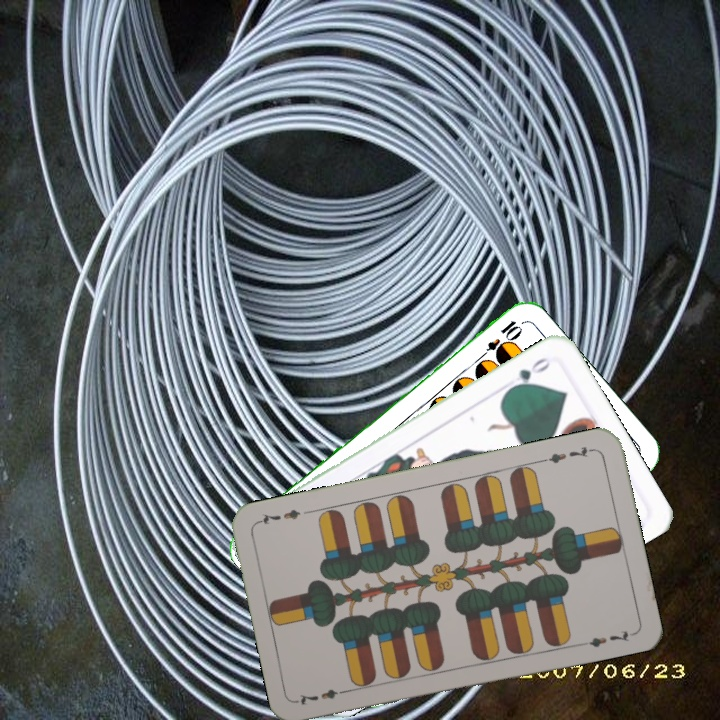E10: (474, 316, 524, 364)
E7: (539, 442, 597, 466), (294, 684, 352, 707)
GO: (504, 353, 555, 394)
